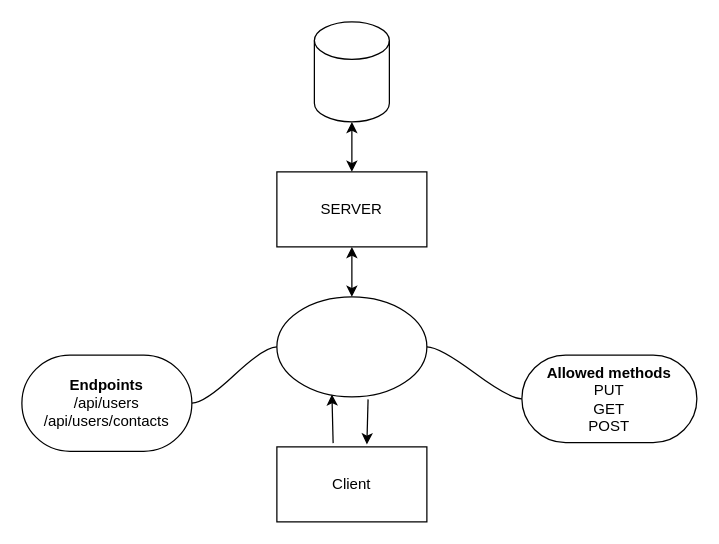
Image size: 719x544. Some labels were removed from this diagram. The centre of each missing label's shape, as x and y in pixels:
noSQL: (351,71)
Rest API: (351,346)
